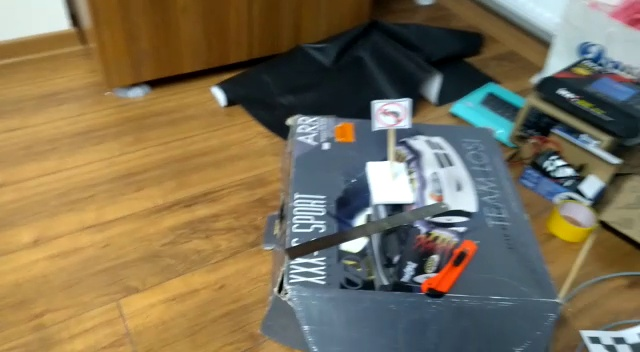sola_donulmez: (373, 100, 411, 128)
